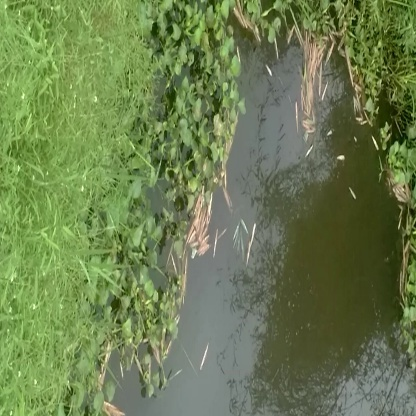leaf: (189, 194, 219, 260)
